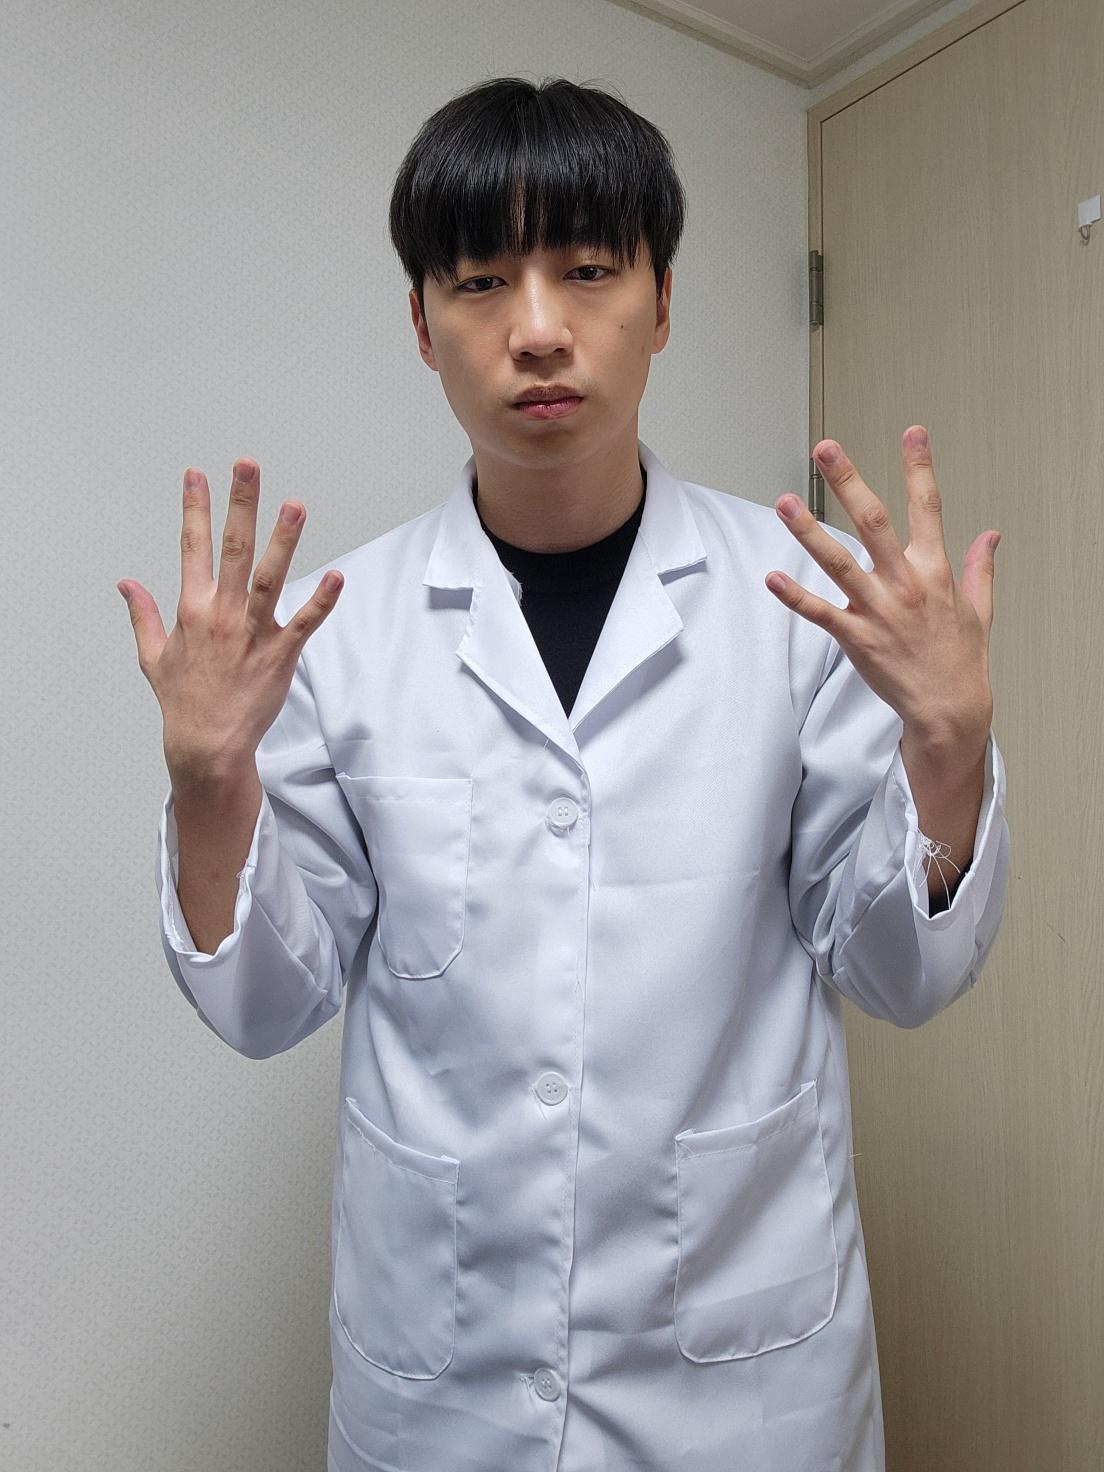lab_coat: (158, 452, 1007, 1472)
